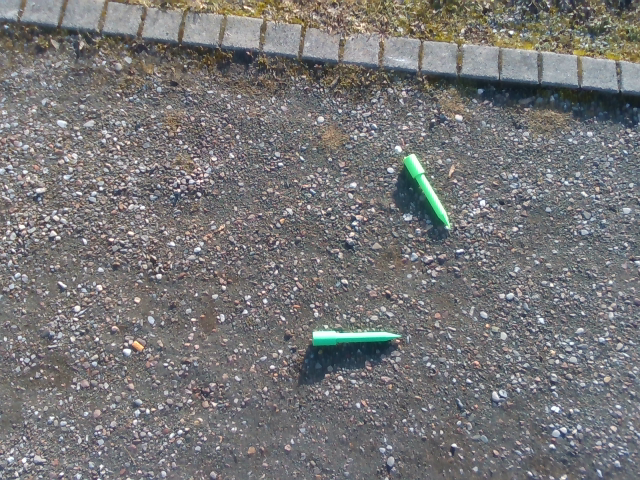Probe: (401, 152, 453, 231), (308, 321, 408, 355)
